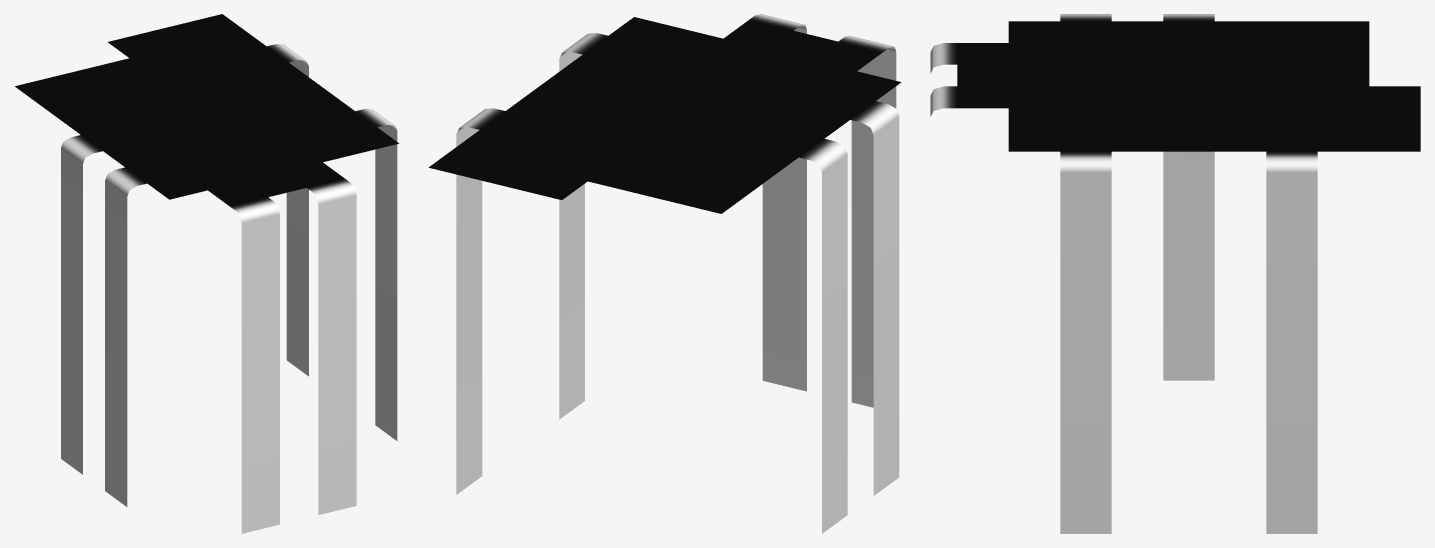
The model's file is torchRoom3Water_MESH.fbx.
3 renders of one model, left to right at view 1: azimuth 30°, elevation 25°; view 2: azimuth 150°, elevation 25°; view 3: azimuth 270°, elevation 25°, orthographic. The views are drawn at different scales.
Visible parts, largest first — view 1: room10; view 2: room10; view 3: room10.
Boxes of the visible parts, x1,y1,x2,y2 form: room10: (15, 14, 398, 533); room10: (429, 14, 901, 533); room10: (930, 14, 1420, 533).
Size of the model in its own units: 7.05 by 7.95 by 9.52.
